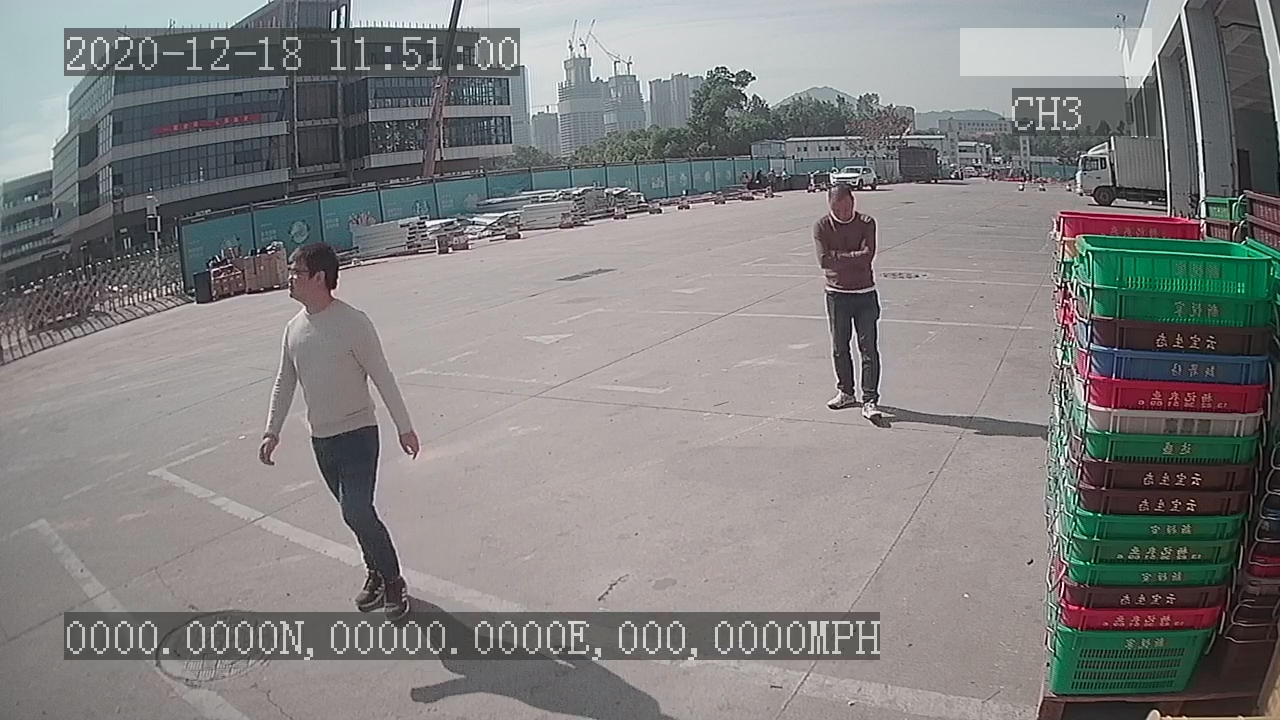person: (808, 177, 897, 433)
